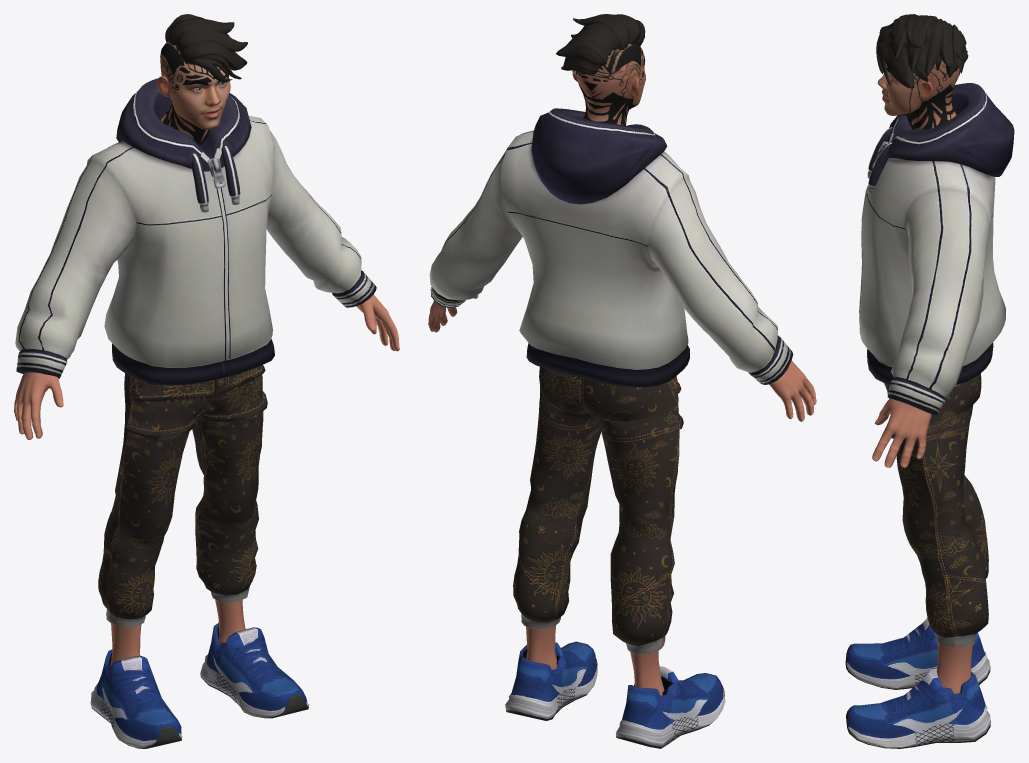
File: 1avatar.glb
3 views of the same model, side by side, from view 1: azimuth 30°, elevation 25°; view 2: azimuth 150°, elevation 25°; view 3: azimuth 270°, elevation 25° (orthographic).
Visible parts, largest first — view 1: Wolf3D_Outfit_Top, Wolf3D_Outfit_Bottom, Wolf3D_Outfit_Footwear, Wolf3D_Body, Wolf3D_Head, Wolf3D_Hair; view 2: Wolf3D_Outfit_Top, Wolf3D_Outfit_Bottom, Wolf3D_Outfit_Footwear, Wolf3D_Body, Wolf3D_Head, Wolf3D_Hair; view 3: Wolf3D_Outfit_Top, Wolf3D_Outfit_Bottom, Wolf3D_Outfit_Footwear, Wolf3D_Hair, Wolf3D_Body, Wolf3D_Head.
Boxes of the visible parts, <box> form: Wolf3D_Outfit_Top: <box>15,78,376,385</box>; Wolf3D_Outfit_Bottom: <box>98,365,267,627</box>; Wolf3D_Outfit_Footwear: <box>90,623,309,748</box>; Wolf3D_Body: <box>14,294,399,665</box>; Wolf3D_Head: <box>157,39,230,145</box>; Wolf3D_Hair: <box>165,14,247,82</box>; Wolf3D_Outfit_Top: <box>429,108,793,387</box>; Wolf3D_Outfit_Bottom: <box>513,367,683,654</box>; Wolf3D_Outfit_Footwear: <box>505,641,725,748</box>; Wolf3D_Body: <box>428,295,816,695</box>; Wolf3D_Head: <box>572,43,645,125</box>; Wolf3D_Hair: <box>556,14,645,74</box>; Wolf3D_Outfit_Top: <box>859,83,1014,415</box>; Wolf3D_Outfit_Bottom: <box>884,373,988,647</box>; Wolf3D_Outfit_Footwear: <box>845,618,990,748</box>; Wolf3D_Hair: <box>876,14,968,88</box>; Wolf3D_Body: <box>872,398,972,693</box>; Wolf3D_Head: <box>877,60,960,129</box>.
Size of the model in its own units: 1.06 by 1.87 by 0.4163.
Materials: 8 (8 with a texture image).
